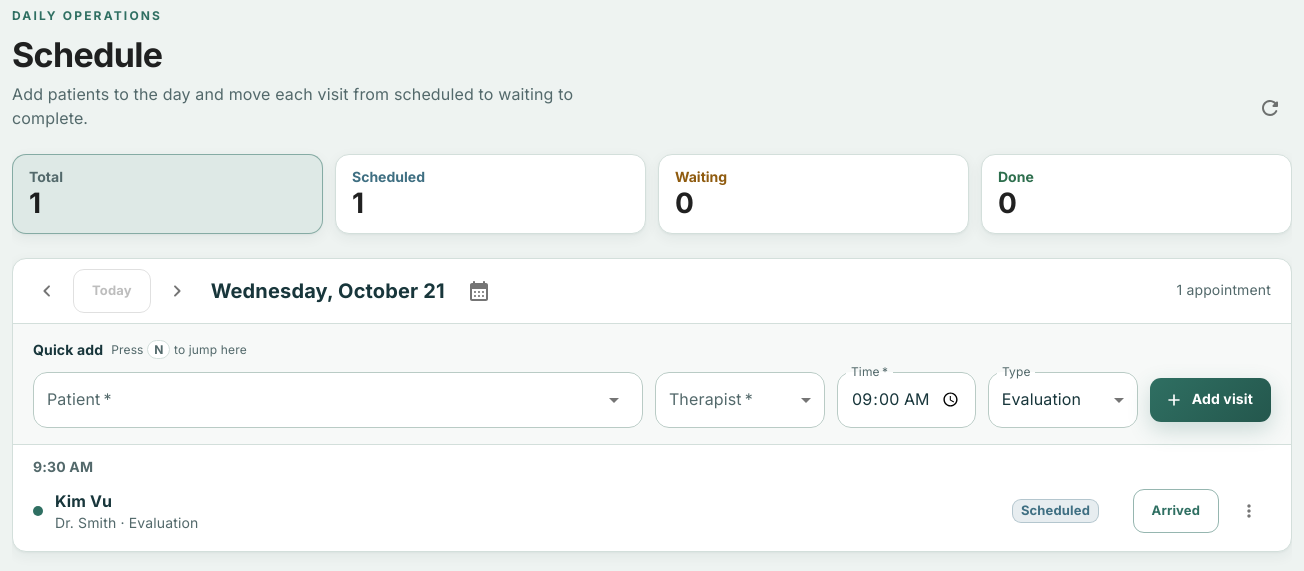
Scenario: SchedulePage › steps between days and back to today
This screenshot has width=1304, height=571.
Check: the text "Kim Vu" is shown, box [55, 490, 112, 510]
Check: the button "Today" is disabled, box [73, 268, 151, 312]
Step 1. Click the button named "Next day" → (177, 290), box [155, 268, 199, 312]
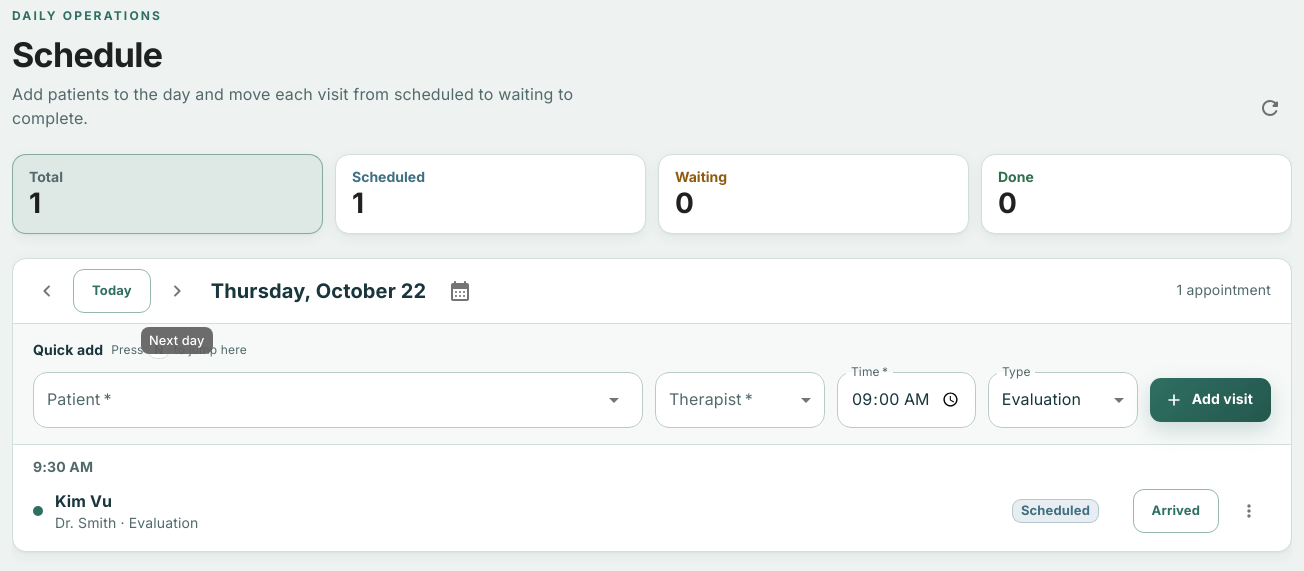
Check: the button "Today" is enabled
Step 2. Click the button "Today" → (112, 290), box [73, 268, 151, 312]
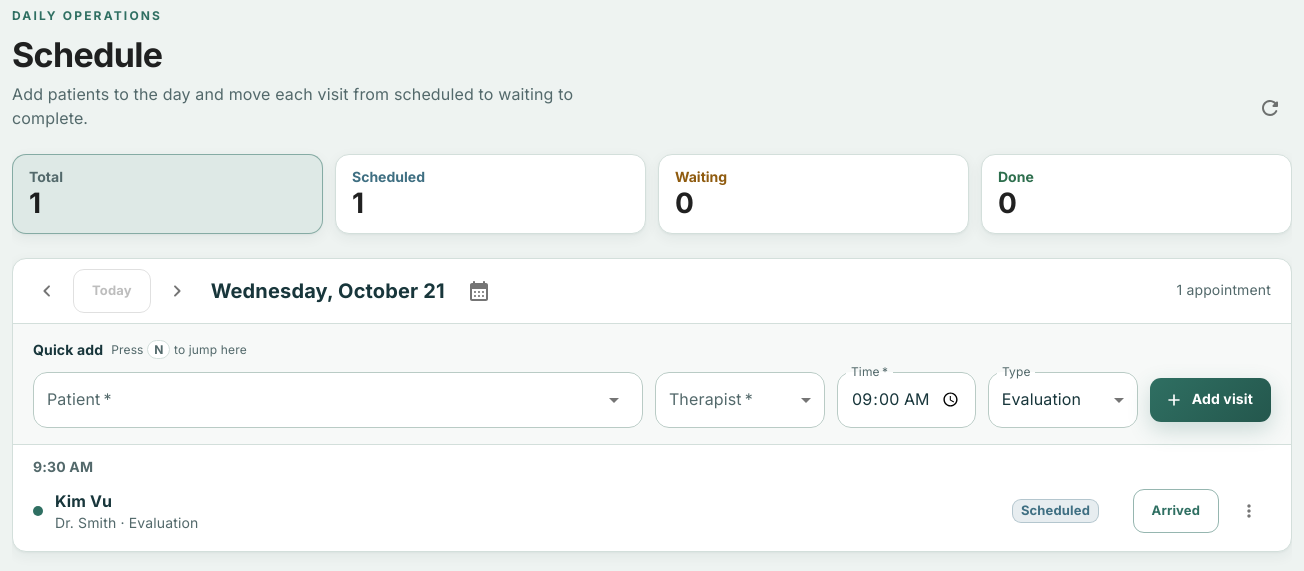
Check: the button "Today" is disabled, box [73, 268, 151, 312]
